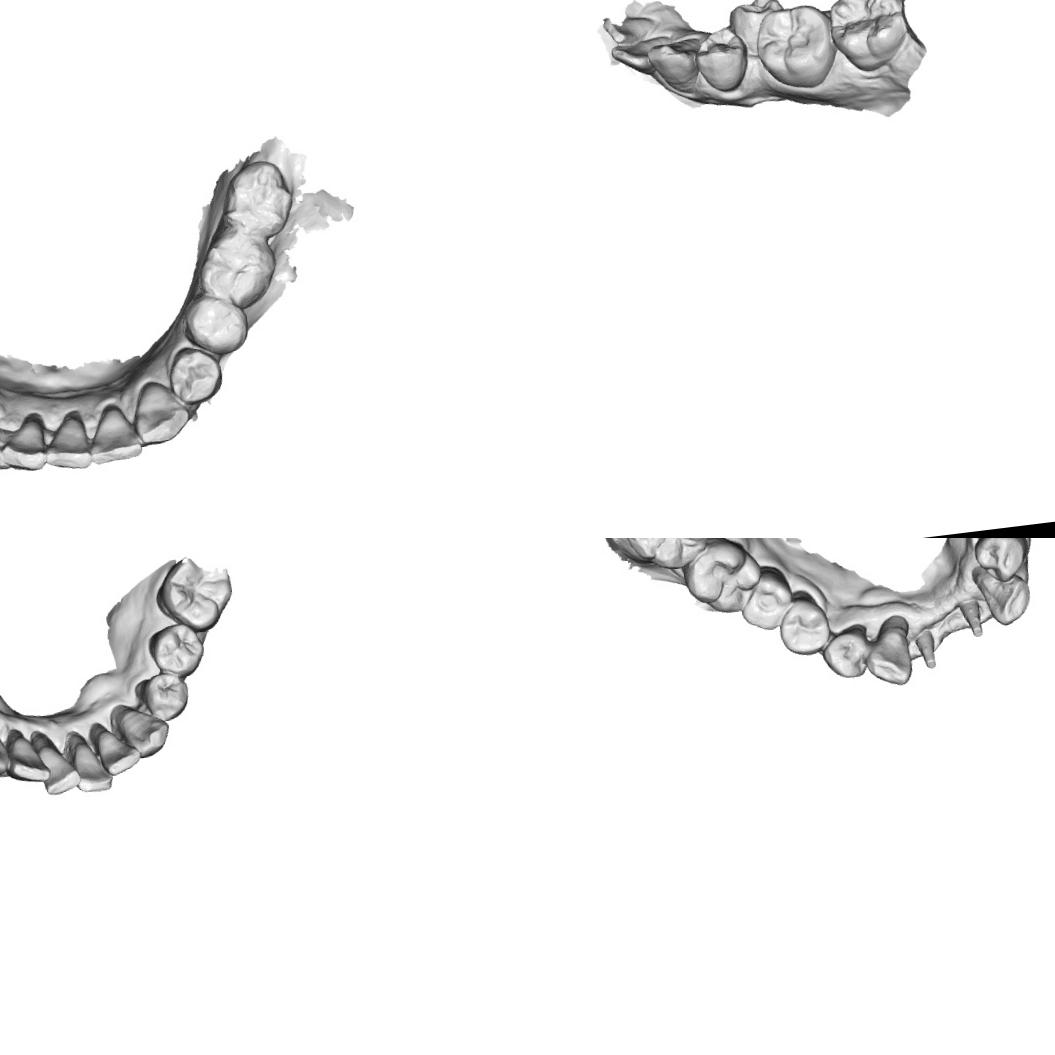abutment: (955, 595, 988, 642), (912, 626, 941, 671)
canine: (126, 375, 194, 448), (968, 559, 1036, 630), (860, 612, 918, 690), (108, 698, 172, 763), (643, 36, 706, 98), (0, 714, 11, 782)
incisor: (28, 724, 84, 798), (86, 402, 144, 470), (63, 724, 116, 796), (86, 717, 144, 778), (38, 415, 93, 477), (609, 32, 676, 82), (0, 723, 51, 785), (0, 417, 47, 476)
molar: (749, 0, 842, 94), (150, 549, 238, 639), (191, 224, 280, 310), (676, 538, 767, 619), (218, 156, 296, 243), (824, 0, 912, 77), (734, 561, 797, 634), (620, 538, 714, 575)
premolar: (180, 293, 250, 358), (690, 25, 754, 96), (724, 0, 791, 60), (145, 620, 208, 682), (775, 594, 834, 660), (166, 344, 225, 408), (817, 619, 875, 681), (132, 670, 192, 726), (971, 538, 1032, 585)
